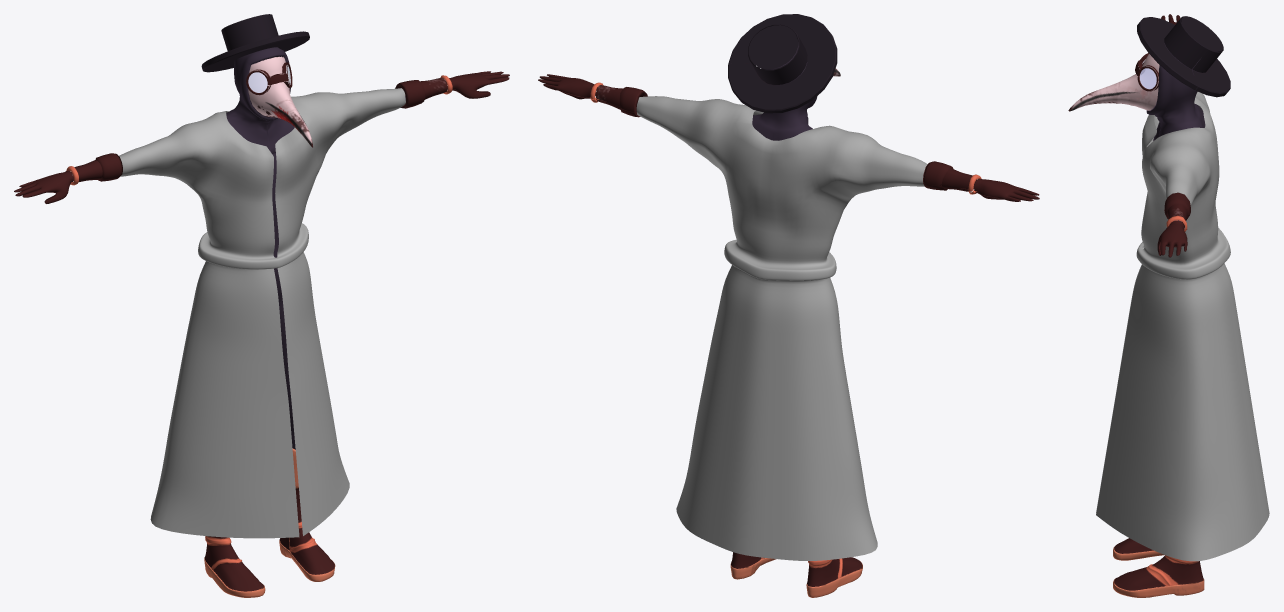
Rendered from doc_colour.fbx.
The picture shows the model from 3 angles, left to right: view 1: azimuth 30°, elevation 25°; view 2: azimuth 150°, elevation 25°; view 3: azimuth 270°, elevation 25°; orthographic projection.
Visible parts, largest first — view 1: cloak_v2, body, hat1, goggles; view 2: cloak_v2, hat1, body; view 3: cloak_v2, body, hat1, goggles.
Part boxes in pixels (x1,y1,x2,y2): cloak_v2: [119, 88, 405, 538]; body: [14, 47, 509, 597]; hat1: [201, 14, 309, 72]; goggles: [246, 62, 292, 95]; cloak_v2: [636, 96, 927, 560]; hat1: [728, 14, 837, 113]; body: [538, 46, 1039, 597]; cloak_v2: [1096, 92, 1269, 561]; body: [1068, 14, 1205, 597]; hat1: [1137, 16, 1230, 97]; goggles: [1135, 53, 1158, 91].
Size of the model in its own units: 19.42 by 20.59 by 6.8.
3 materials, 1 textured.
